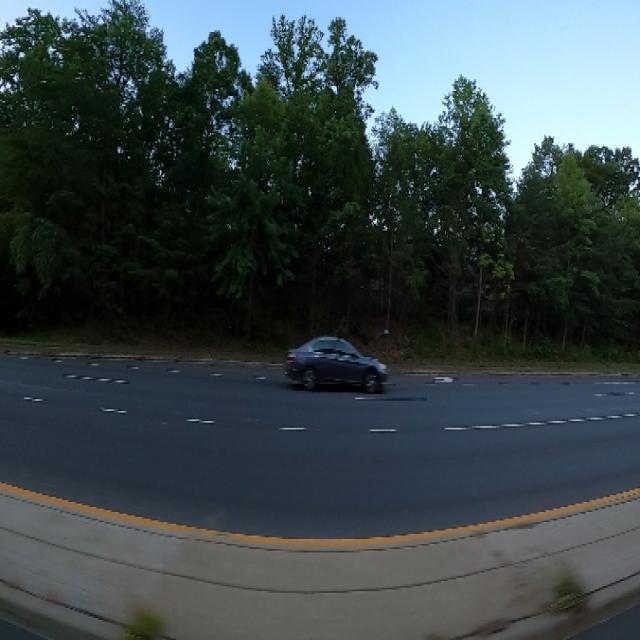cars: (283, 316, 393, 403)
